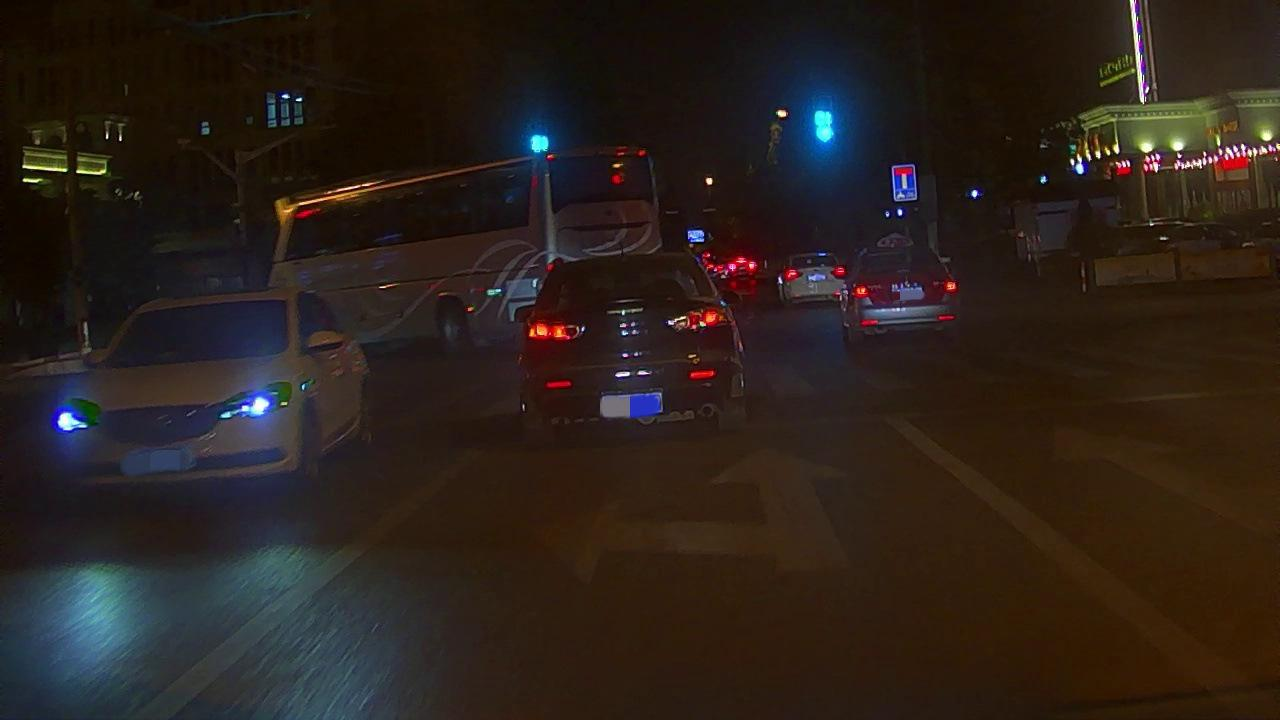traffic_light: (811, 96, 835, 144), (527, 125, 552, 154)
